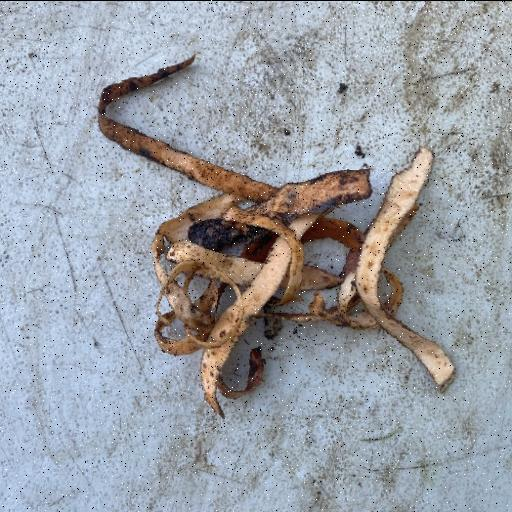Waste: (95, 52, 457, 420)
